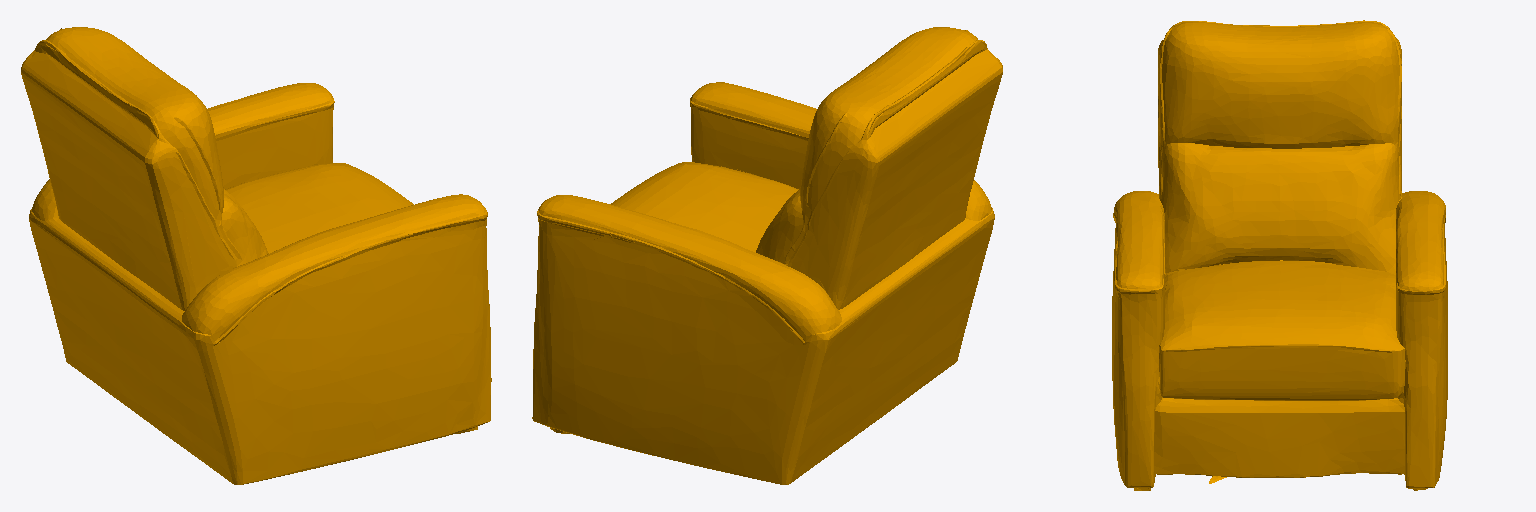
The robot description file, URDF, robot "lounge_chair_25":
<?xml version="1.0" ?>
<robot name="lounge_chair_25">
   <link name="lounge_chair_25">
      <visual>
         <origin xyz="0 0 0" rpy="1.5708 0.0 0.0"/>
         <geometry>
            <mesh filename="mesh/lounge_chair_25.obj" scale="1.0 1.0 1.0"/>
         </geometry>
      </visual>
      <collision>
         <origin xyz="0 0 0" rpy="1.5708 0.0 0.0"/>
         <geometry>
            <mesh filename="mesh/lounge_chair_25_collision.obj" scale="1.0 1.0 1.0"/>
         </geometry>
         <gazebo>
            <mu1>0.80</mu1>
            <mu2>0.60</mu2>
         </gazebo>
      </collision>
      <inertial>
         <mass value="25.0000"/>
         <origin xyz="0 0 0"/>
         <inertia ixx="1.0" ixy="0.0" ixz="0.0" iyy="1.0" iyz="0.0" izz="1.0"/>
      </inertial>
      <extra_info>
         <scale>1.100000</scale>
         <version>v0.1.5</version>
         <category>lounge_chair</category>
         <description>cushioned armchair with reclined backrest and wide armrests</description>
         <min_height>1.0</min_height>
         <max_height>1.2</max_height>
         <real_height>1.1</real_height>
         <min_mass>20.0</min_mass>
         <max_mass>30.0</max_mass>
         <generate_time>20251021120823</generate_time>
         <gs_model>mesh/lounge_chair_25_gs.ply</gs_model>
      </extra_info>
   </link>
   <custom_data>
      <quality>
         <MeshGeoChecker>YES</MeshGeoChecker>
         <ImageSegChecker>YES</ImageSegChecker>
         <ImageAestheticChecker>4.733931303024292</ImageAestheticChecker>
         <overall>YES</overall>
      </quality>
   </custom_data>
</robot>

--- What the picture shows (computed from the rendered views, not written in the file) ---
Views: 3 orthographic renders of the robot side by side, from view 1: azimuth 30°, elevation 25°; view 2: azimuth 150°, elevation 25°; view 3: azimuth 270°, elevation 25°.
Robot: lounge_chair_25 — 1 links, 0 joints (none); root link lounge_chair_25; default pose: every joint at zero.
Visible links, largest first — view 1: lounge_chair_25; view 2: lounge_chair_25; view 3: lounge_chair_25.
Boxes of the visible links, box(x1,y1,x2,y2) form: lounge_chair_25: box(21, 27, 491, 484); lounge_chair_25: box(532, 27, 1002, 484); lounge_chair_25: box(1112, 20, 1447, 490).
Size in the robot's own frame: 1.02 by 0.983 by 1.1 metres.
1 mesh visuals loaded from 1 distinct referenced files (1 OBJ).
